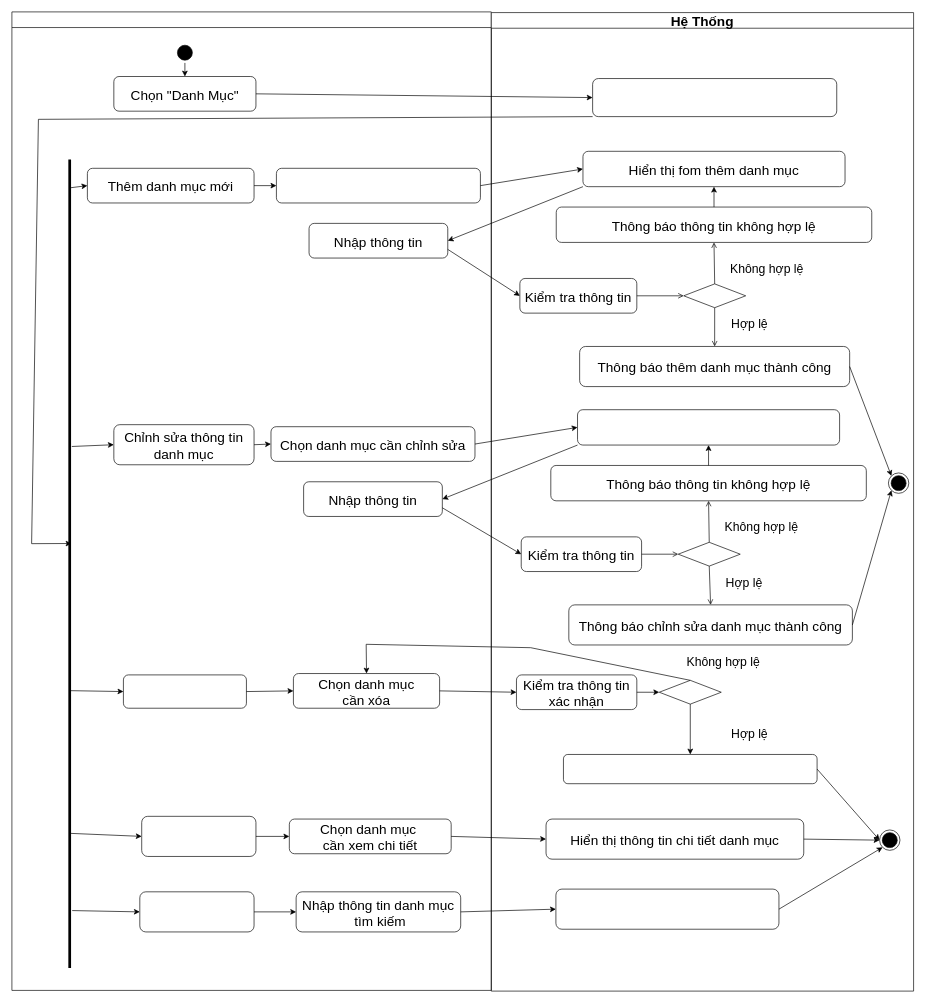
Some shapes in this 925 by 1003 pixel diagram are drawn without their labels. Here are the shapes that lost their labels. From the top down, the box of each, then its label:
(592, 78, 837, 117): Hiển thị trang quản lý danh mục
(276, 168, 480, 203): Nhấn chọn "Thêm danh mục mới"
(577, 409, 840, 445): Hiển thị fom chỉnh sửa danh mục
(11, 11, 491, 990): Nhân Viên Bán Hàng
(123, 674, 246, 708): Xóa danh mục
(563, 754, 817, 784): Ẩn danh mục khỏi giao diện
(141, 816, 256, 856): Xem thông tin danh mục
(139, 891, 254, 932): Tìm kiếm danh mục
(555, 888, 779, 929): Hiển thị thông tin danh mục
